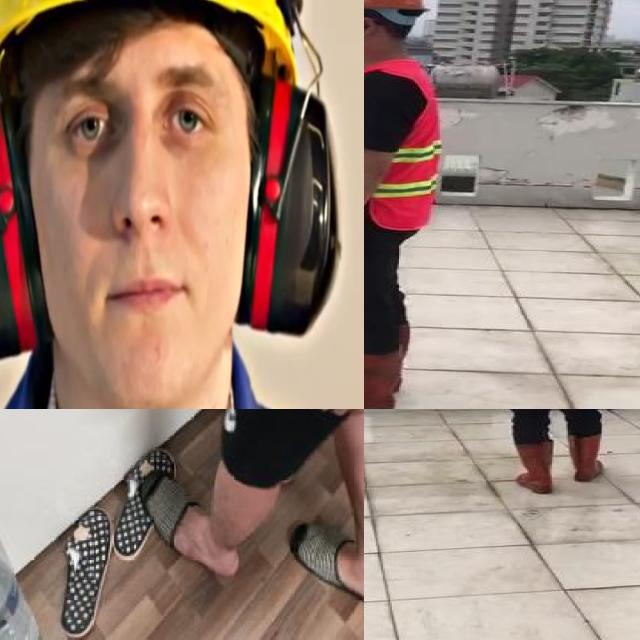Ear-protection: (0, 0, 339, 393)
Sandals: (136, 472, 242, 606), (289, 519, 364, 625)
boots: (510, 441, 556, 494), (364, 348, 401, 409), (566, 435, 605, 483)
person: (364, 0, 461, 409), (461, 409, 633, 502)
vest: (364, 62, 441, 231)
